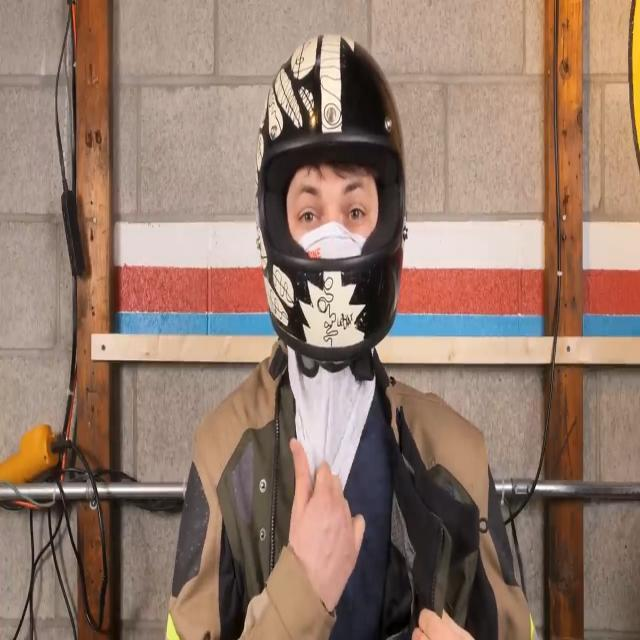Helmet_Wearer: (247, 31, 411, 363)
Person: (166, 29, 532, 640)
